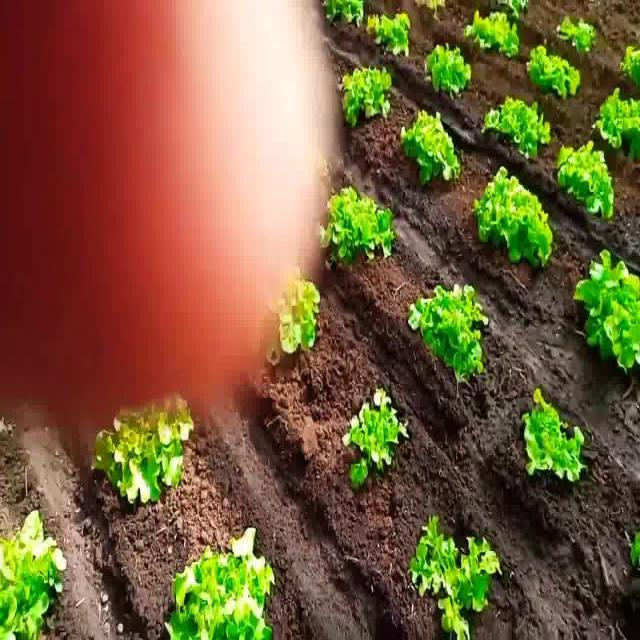Lettuce: (162, 526, 277, 640), (408, 506, 498, 640), (90, 397, 196, 507), (405, 284, 491, 384), (571, 251, 640, 375), (472, 166, 555, 269), (0, 503, 60, 640), (517, 391, 585, 483), (319, 184, 397, 264), (344, 391, 415, 471), (396, 107, 465, 189), (550, 140, 615, 220), (480, 94, 552, 158), (336, 62, 394, 128), (524, 44, 584, 98), (280, 282, 324, 354), (467, 7, 521, 58), (597, 88, 640, 152), (421, 45, 474, 95), (368, 8, 412, 58), (555, 15, 599, 58), (314, 0, 367, 22), (615, 43, 640, 82)
